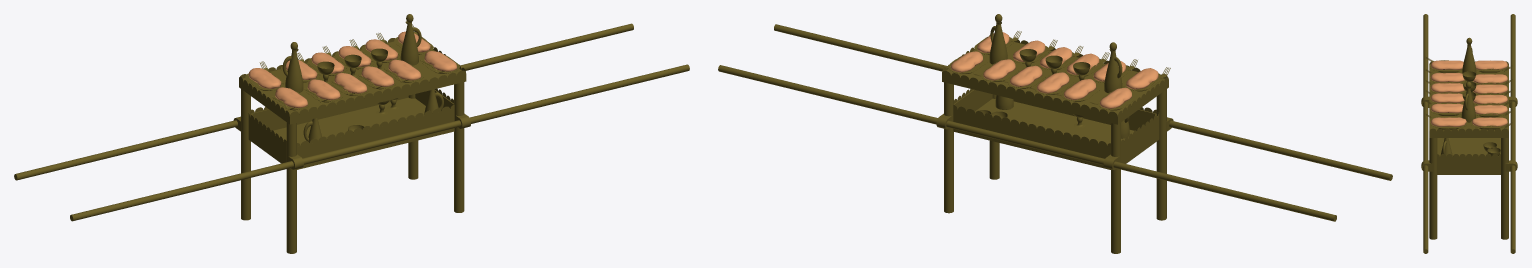
Rendered from table_of_shewbread_of_the_tabernacle.glb.
The picture shows the model from 3 angles, left to right: view 1: azimuth 30°, elevation 25°; view 2: azimuth 150°, elevation 25°; view 3: azimuth 270°, elevation 25°; orthographic projection. The views are drawn at different scales.
Parts seen in each view (by area): view 1: Border.002; view 2: Border.002; view 3: Border.002.
Part boxes in pixels (x1,y1,x2,y2): Border.002: (14, 14, 689, 253); Border.002: (718, 14, 1392, 253); Border.002: (1421, 14, 1517, 253).
Size of the model in its own units: 7 by 2.02 by 1.21.
Materials: 2 (1 with a texture image).
